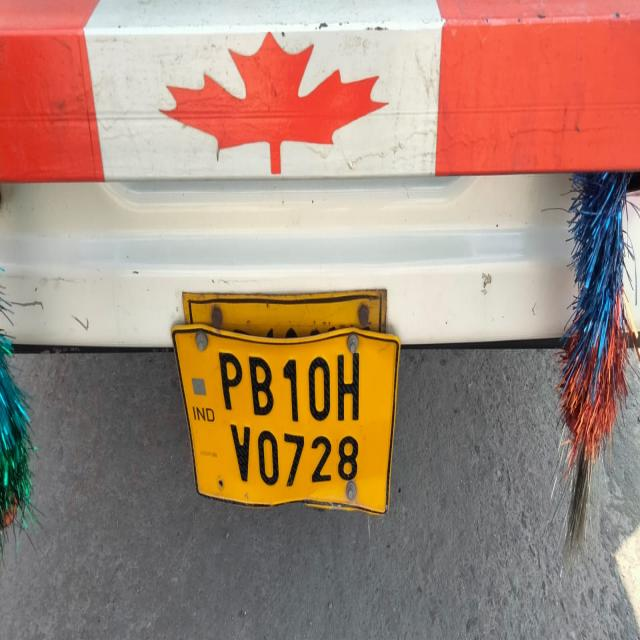License-plate: (195, 307, 373, 522)
